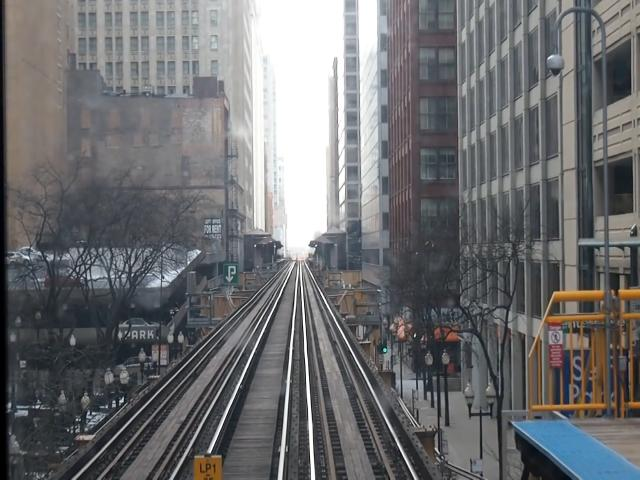signal light: (382, 338, 389, 356)
